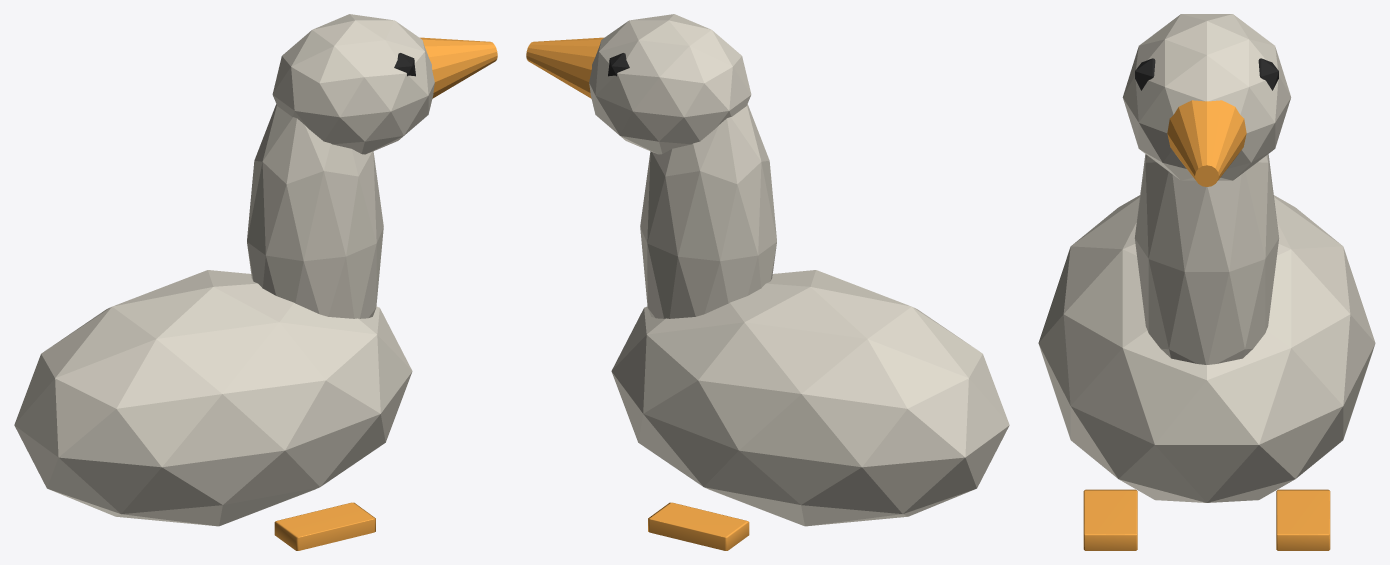
Rendered from goose.glb.
3 views of the same model, side by side, from view 1: azimuth 30°, elevation 25°; view 2: azimuth 150°, elevation 25°; view 3: azimuth 270°, elevation 25° (orthographic). The views are drawn at different scales.
Visible parts, largest first — view 1: body, neck, head, left foot, beak; view 2: body, neck, head, right foot, beak; view 3: body, neck, head, beak, left foot, right foot, eye, eye.001.
Boxes of the visible parts, bbox=[...] form: body: bbox=[14, 270, 412, 526]; neck: bbox=[247, 104, 383, 318]; head: bbox=[272, 14, 434, 154]; left foot: bbox=[274, 502, 375, 550]; beak: bbox=[420, 37, 497, 98]; body: bbox=[611, 270, 1009, 526]; neck: bbox=[640, 104, 776, 318]; head: bbox=[589, 14, 751, 154]; right foot: bbox=[648, 502, 749, 550]; beak: bbox=[526, 37, 603, 98]; body: bbox=[1038, 195, 1375, 502]; neck: bbox=[1134, 154, 1279, 364]; head: bbox=[1122, 14, 1291, 180]; beak: bbox=[1167, 100, 1246, 186]; left foot: bbox=[1083, 489, 1137, 550]; right foot: bbox=[1276, 489, 1330, 550]; eye: bbox=[1135, 58, 1155, 90]; eye.001: bbox=[1258, 58, 1278, 90].
Bounding box in the file's own units: 1.03 × 1 × 0.56.
